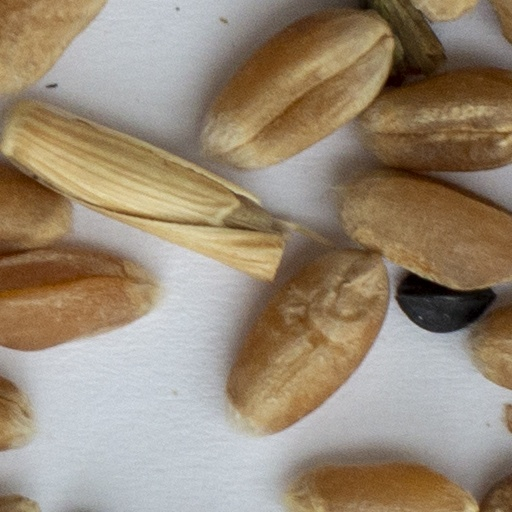Fallopia-Convolvulus-poly: (397, 275, 495, 331)
Peel-poly: (1, 100, 284, 277)
